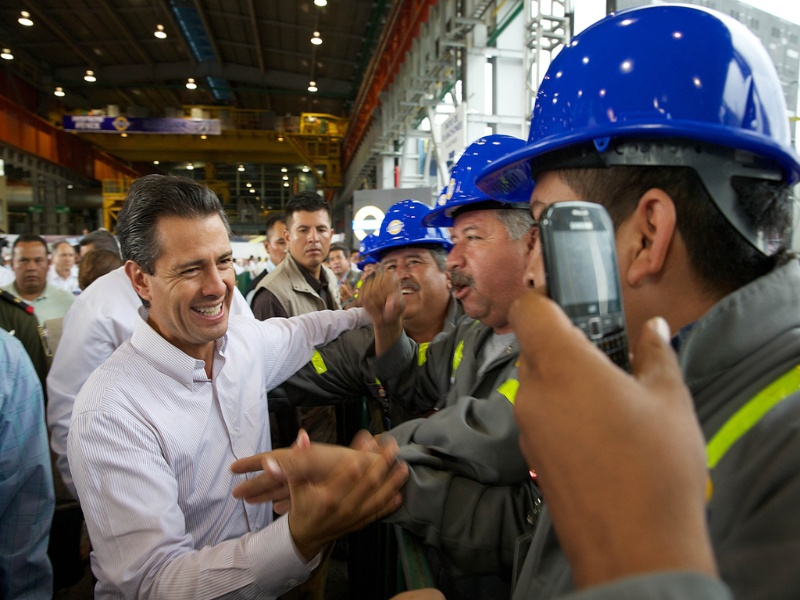Baret: (472, 6, 800, 189), (366, 198, 453, 254)
